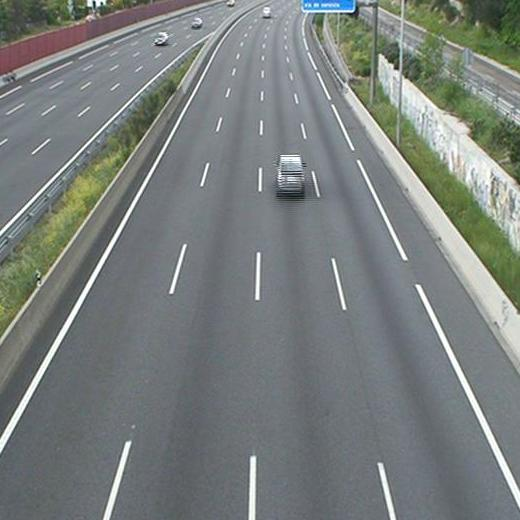car: (276, 153, 306, 197)
